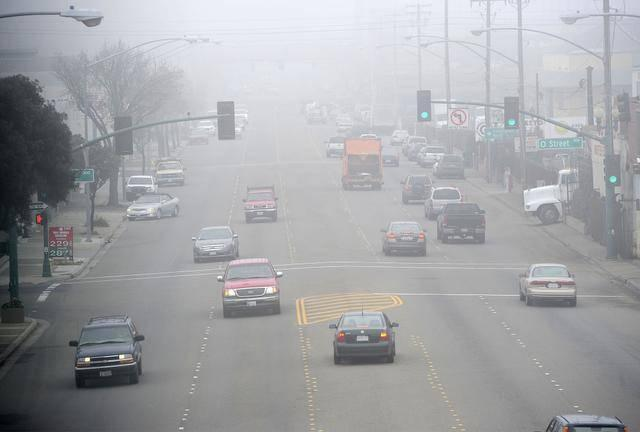bus: (521, 168, 594, 226), (341, 136, 385, 192)
car: (68, 313, 147, 388), (215, 257, 284, 318), (328, 310, 400, 365), (519, 263, 578, 306), (436, 201, 487, 245), (191, 226, 240, 263), (379, 221, 429, 257), (535, 414, 628, 432), (124, 191, 180, 220), (242, 183, 280, 224), (424, 186, 464, 221), (399, 174, 436, 205), (151, 157, 187, 186), (125, 175, 160, 202), (435, 153, 465, 179), (323, 135, 350, 158), (401, 135, 428, 158), (419, 145, 447, 167), (376, 145, 401, 167), (406, 141, 429, 161), (186, 128, 210, 146), (195, 120, 217, 136), (390, 129, 410, 145)
